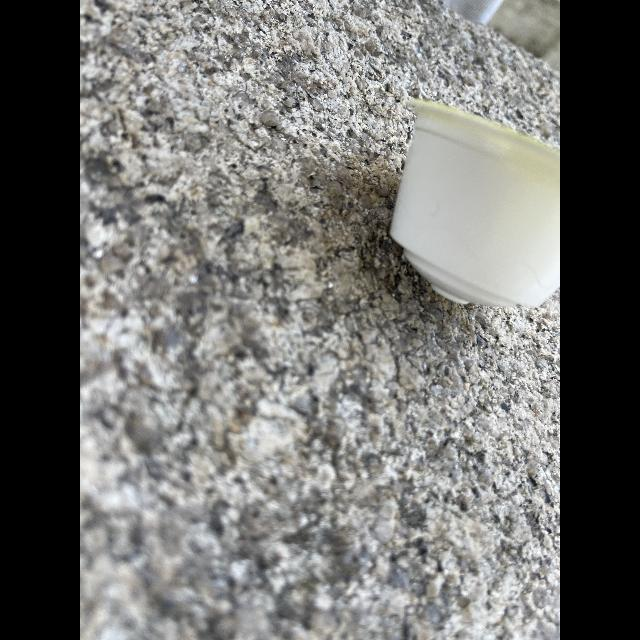intact_capsule: (376, 86, 560, 328)
